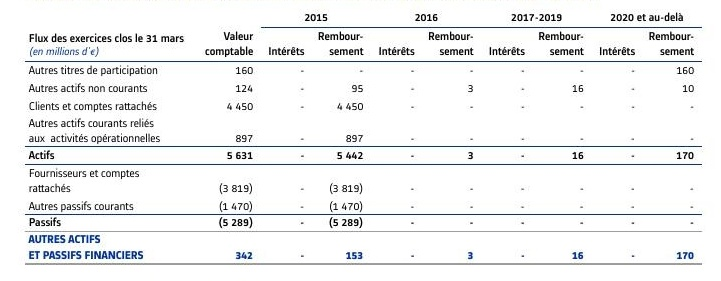table: (0, 0, 721, 281)
